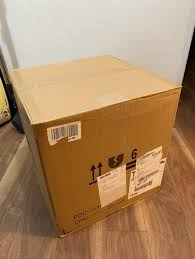undamaged: (9, 55, 181, 240)
